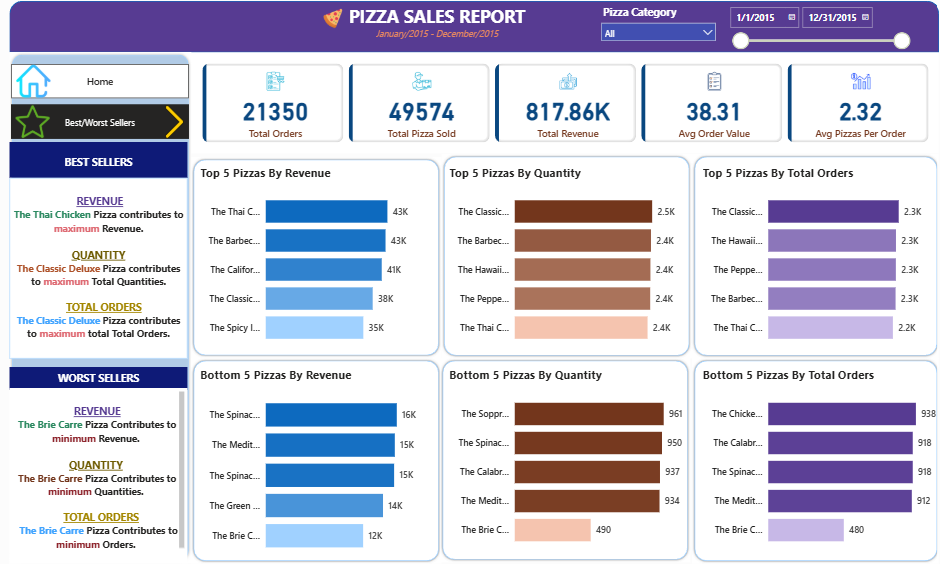

Layout of this report page (visuals, bound fields, positions):
{"tool":"powerbi","page":{"name":"Best/Worst Sellers","canvas":[1490,1000],"ordinal":1},"visuals":[{"type":"cardVisual","fields":{"Data":["TBL_PIZZA_SALES_DATA.Total Orders","TBL_PIZZA_SALES_DATA.Total Pizza Sold","TBL_PIZZA_SALES_DATA.Total Revenue","TBL_PIZZA_SALES_DATA.Avg Order Value","TBL_PIZZA_SALES_DATA.Avg Pizzas Per Order"]},"box":[314,92,1136,154],"z":0},{"type":"shape","box":[38,14,1412,78],"z":1000},{"type":"textbox","box":[548.3,13.3,290,50],"z":2000},{"type":"textbox","box":[590,46.7,203.3,31.7],"z":3000},{"type":"image","box":[486.7,25,85,30],"z":4000},{"type":"shape","box":[314,250,380,305],"z":5000},{"type":"shape","box":[38,92,276,776],"z":6000},{"type":"textbox","box":[38,228,270,54],"z":7000},{"type":"textbox","box":[38,282,270,274],"z":8000},{"type":"textbox","box":[38,568,270,34],"z":9000},{"type":"textbox","box":[38,602,270,266],"z":10000},{"type":"slicer","fields":{"Values":["TBL_PIZZA_SALES_DATA.pizza_category"]},"box":[926,14,194,78],"z":11000},{"type":"slicer","fields":{"Values":["TBL_PIZZA_SALES_DATA.order_date"]},"box":[1120,14,294,78],"z":12000},{"type":"shape","box":[694,246,380,310],"z":13000},{"type":"shape","box":[1074,246,376,310],"z":14000},{"type":"shape","box":[314,556,380,312],"z":15000},{"type":"shape","box":[692,556,380,310],"z":16000},{"type":"shape","box":[1074,556,376,312],"z":17000},{"type":"barChart","title":"Top 5 Pizzas By Revenue","fields":{"Category":["TBL_PIZZA_SALES_DATA.pizza_name"],"Y":["TBL_PIZZA_SALES_DATA.Total Revenue"]},"box":[324,262,364,288],"z":18000},{"type":"barChart","title":"Bottom 5 Pizzas By Revenue","fields":{"Category":["TBL_PIZZA_SALES_DATA.pizza_name"],"Y":["TBL_PIZZA_SALES_DATA.Total Revenue"]},"box":[324,568,364,298],"z":19000},{"type":"barChart","title":"Top 5 Pizzas By Quantity","fields":{"Category":["TBL_PIZZA_SALES_DATA.pizza_name"],"Y":["TBL_PIZZA_SALES_DATA.Total Pizza Sold"]},"box":[702,262,364,288],"z":20000},{"type":"barChart","title":"Bottom 5 Pizzas By Quantity","fields":{"Category":["TBL_PIZZA_SALES_DATA.pizza_name"],"Y":["TBL_PIZZA_SALES_DATA.Total Pizza Sold"]},"box":[700,568,364,288],"z":21000},{"type":"barChart","title":"Top 5 Pizzas By Total Orders","fields":{"Category":["TBL_PIZZA_SALES_DATA.pizza_name"],"Y":["TBL_PIZZA_SALES_DATA.Total Orders"]},"box":[1086,262,364,288],"z":22000},{"type":"barChart","title":"Bottom 5 Pizzas By Total Orders","fields":{"Category":["TBL_PIZZA_SALES_DATA.pizza_name"],"Y":["TBL_PIZZA_SALES_DATA.Total Orders"]},"box":[1086,568,364,288],"z":23000},{"type":"pageNavigator","box":[40,170,270,52],"z":24000},{"type":"pageNavigator","box":[42,110,270,52],"z":25000},{"type":"image","box":[264,170,50,52],"z":26000},{"type":"image","box":[42,110,68,52],"z":27000},{"type":"image","box":[48,170,52,52],"z":27001}]}

Visuals, with their boxes on the page's 1490x1000 design canvas (x1, y1, x2, y2). These are canvas units, not pixel positions in the 940x564 screenshot, which may show the page scaled, cropped or inside an application window:
cardVisual - TBL_PIZZA_SALES_DATA.Total Orders x TBL_PIZZA_SALES_DATA.Total Pizza Sold: [x1=314, y1=92, x2=1450, y2=246]
shape: [x1=38, y1=14, x2=1450, y2=92]
textbox: [x1=548, y1=13, x2=838, y2=63]
textbox: [x1=590, y1=47, x2=793, y2=78]
image: [x1=487, y1=25, x2=572, y2=55]
shape: [x1=314, y1=250, x2=694, y2=555]
shape: [x1=38, y1=92, x2=314, y2=868]
textbox: [x1=38, y1=228, x2=308, y2=282]
textbox: [x1=38, y1=282, x2=308, y2=556]
textbox: [x1=38, y1=568, x2=308, y2=602]
textbox: [x1=38, y1=602, x2=308, y2=868]
slicer - TBL_PIZZA_SALES_DATA.pizza_category: [x1=926, y1=14, x2=1120, y2=92]
slicer - TBL_PIZZA_SALES_DATA.order_date: [x1=1120, y1=14, x2=1414, y2=92]
shape: [x1=694, y1=246, x2=1074, y2=556]
shape: [x1=1074, y1=246, x2=1450, y2=556]
shape: [x1=314, y1=556, x2=694, y2=868]
shape: [x1=692, y1=556, x2=1072, y2=866]
shape: [x1=1074, y1=556, x2=1450, y2=868]
"Top 5 Pizzas By Revenue" barChart: [x1=324, y1=262, x2=688, y2=550]
"Bottom 5 Pizzas By Revenue" barChart: [x1=324, y1=568, x2=688, y2=866]
"Top 5 Pizzas By Quantity" barChart: [x1=702, y1=262, x2=1066, y2=550]
"Bottom 5 Pizzas By Quantity" barChart: [x1=700, y1=568, x2=1064, y2=856]
"Top 5 Pizzas By Total Orders" barChart: [x1=1086, y1=262, x2=1450, y2=550]
"Bottom 5 Pizzas By Total Orders" barChart: [x1=1086, y1=568, x2=1450, y2=856]
pageNavigator: [x1=40, y1=170, x2=310, y2=222]
pageNavigator: [x1=42, y1=110, x2=312, y2=162]
image: [x1=264, y1=170, x2=314, y2=222]
image: [x1=42, y1=110, x2=110, y2=162]
image: [x1=48, y1=170, x2=100, y2=222]
